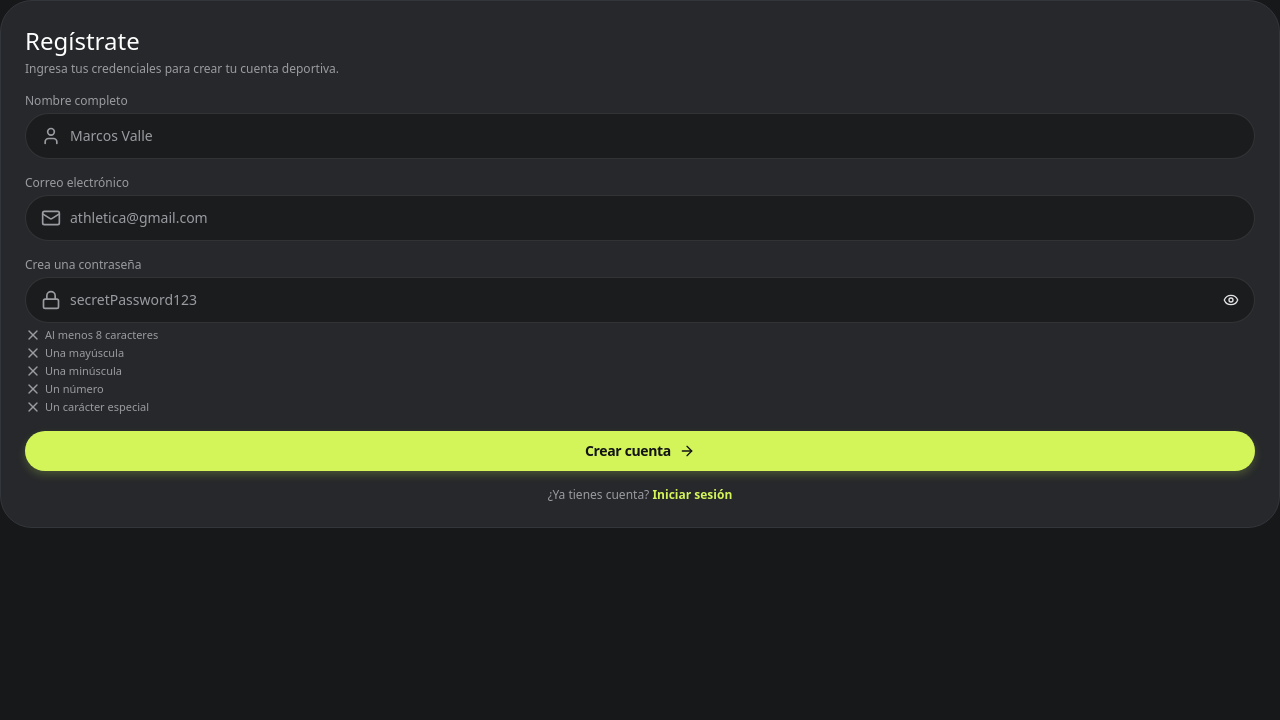
Test: RegisterForm › no envía si la contraseña no cumple la regla
Type "Nueva Socia" into the field labelled "Nombre completo".
click(640, 136); type("Nueva Socia")  # box x1=25 y1=113 x2=1255 y2=159
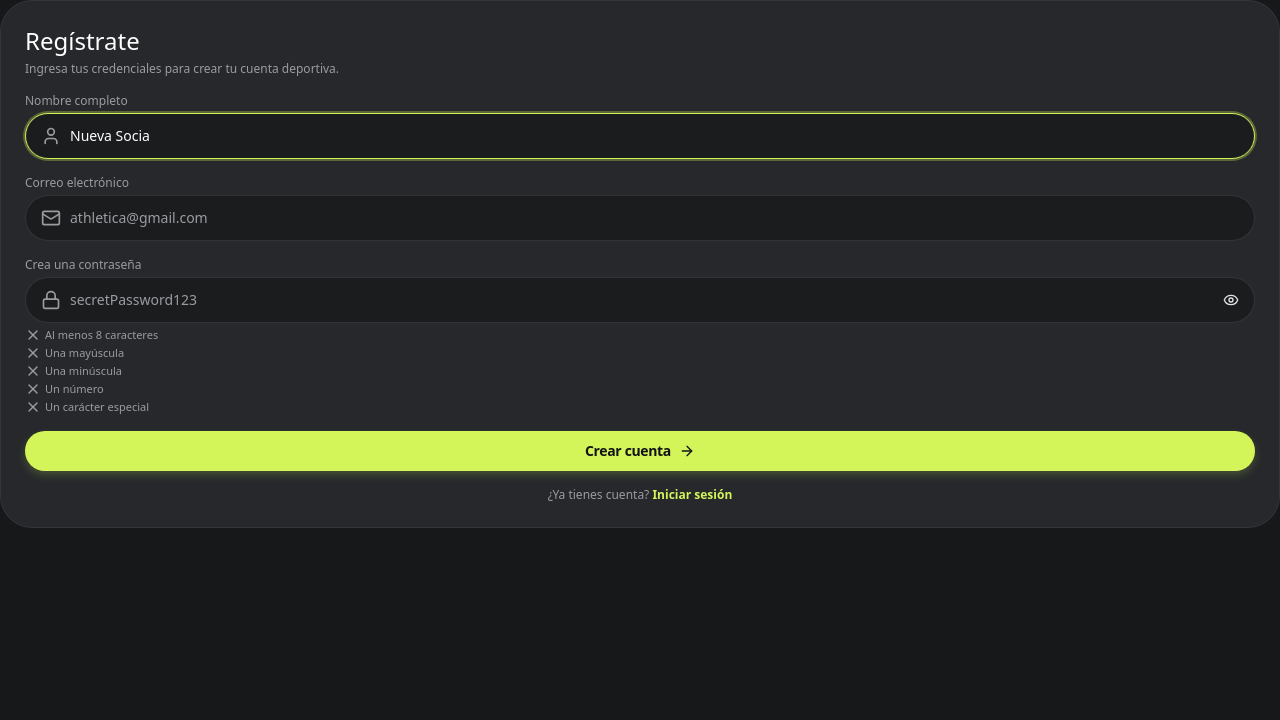
Type "nueva@example.com" into the field labelled "Correo electrónico".
click(640, 218); type("nueva@example.com")  # box x1=25 y1=195 x2=1255 y2=241
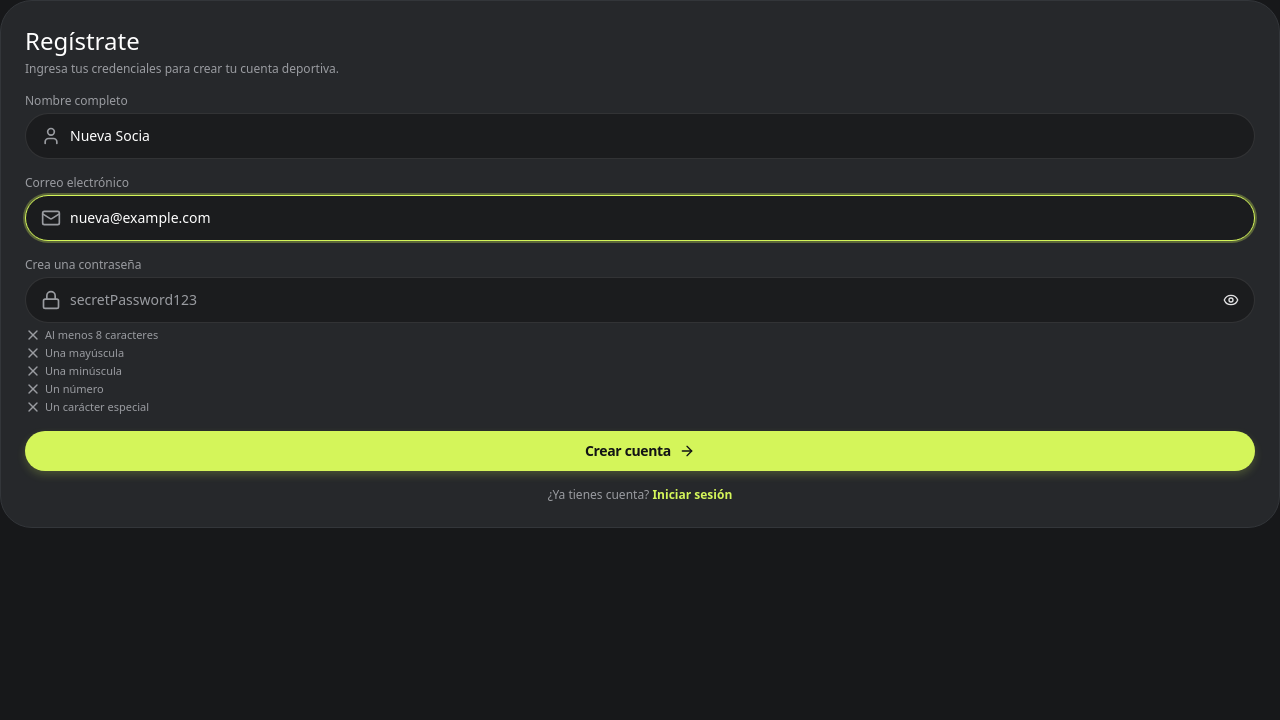
Type "secret123" into the password field labelled "Crea una contraseña".
click(640, 300); type("secret123")  # box x1=25 y1=277 x2=1255 y2=323
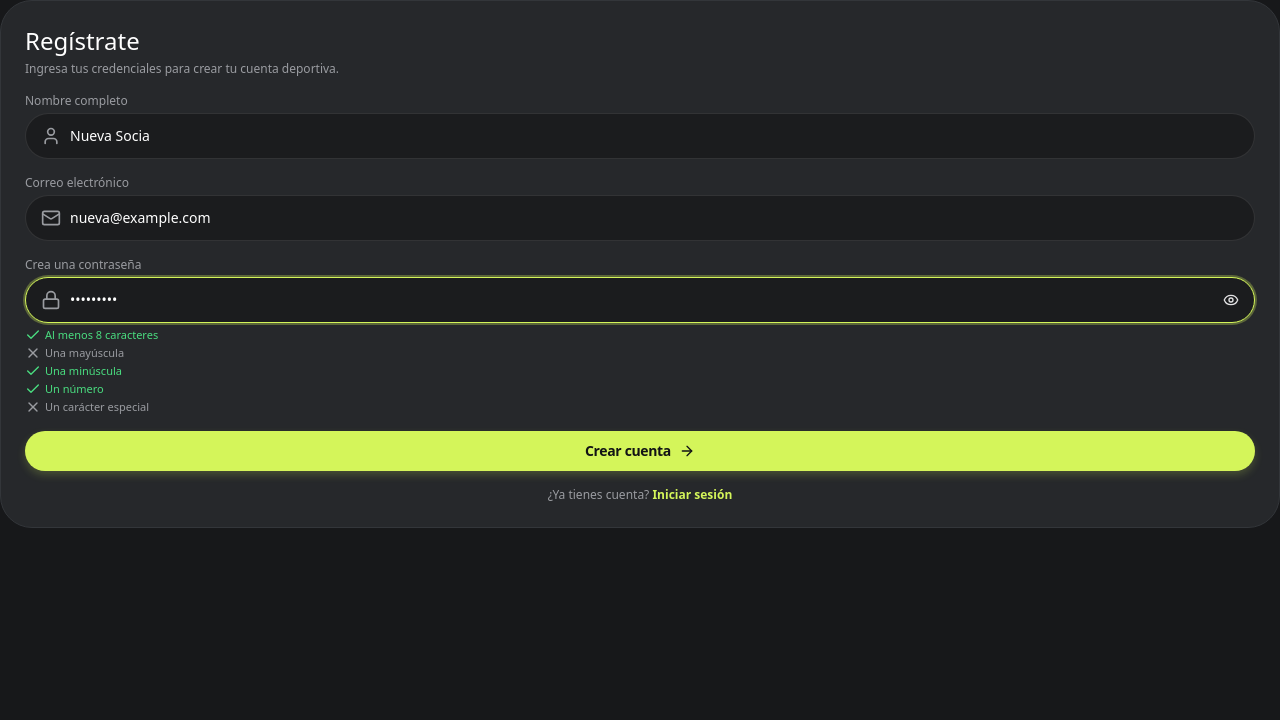
Click the button "Crear cuenta".
click(640, 451)  # box x1=25 y1=431 x2=1255 y2=471
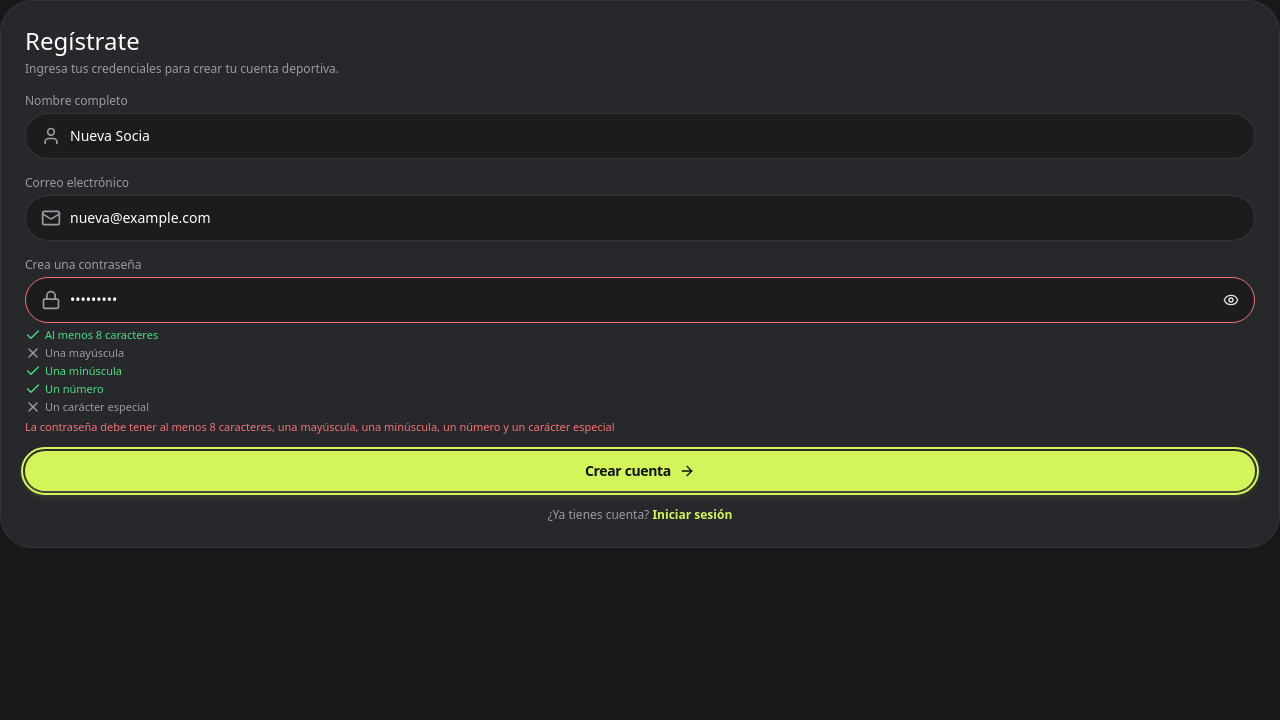
Now the text "La contraseña debe tener al menos 8 caracteres, una mayúscula, una minúscula, un número y un carácter especial" is shown, box x1=25 y1=419 x2=615 y2=434
